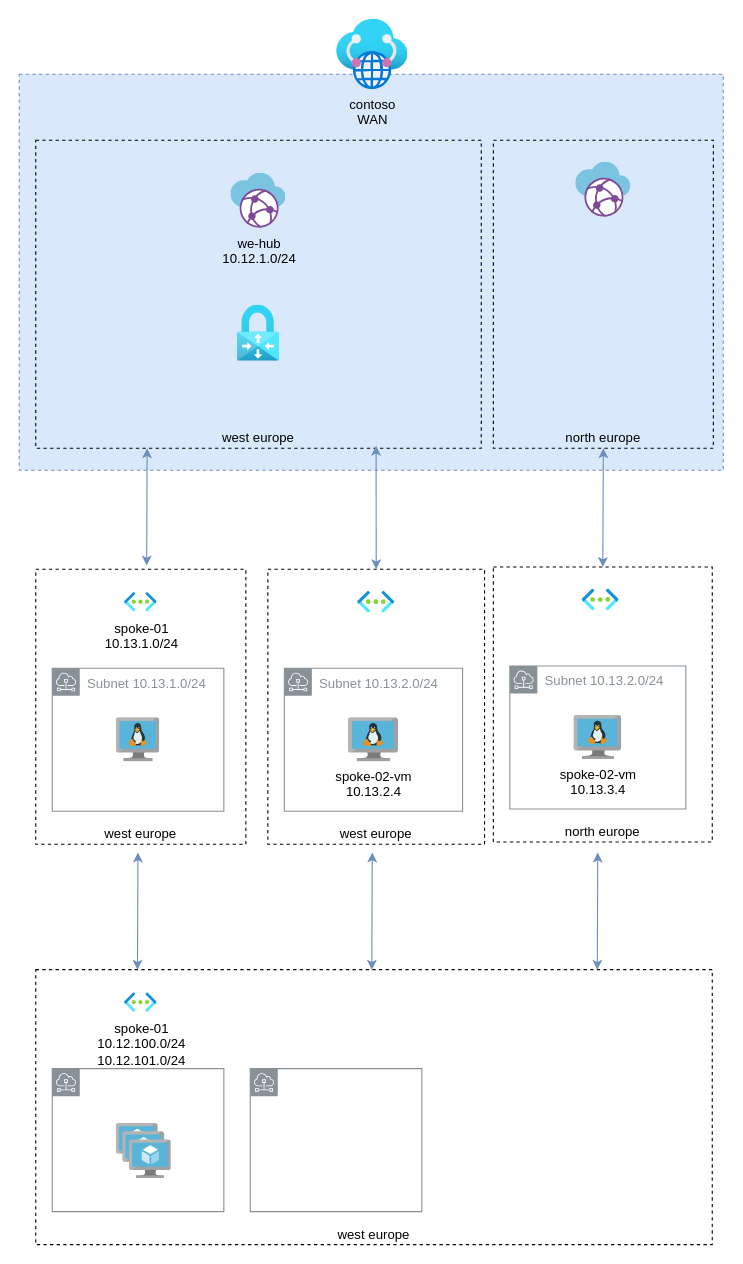
Some shapes in this 743 by 1264 pixel diagram are drawn without their labels. The shapes that lost their labels are listed below. From the top down, each one's box as (x1, y1, x2, y2) in pixels, then its label:
(575, 162, 630, 217): ne-hub 10.12.2.0/24
(237, 305, 279, 361): VPN gateway
(356, 591, 395, 613): spoke-02 10.13.2.0/24
(582, 588, 619, 610): spoke-03 10.13.3.0/24
(116, 717, 159, 761): spoke-01-vm 10.13.1.4
(51, 1068, 224, 1212): Bastion 10.12.100.0/24
(249, 1068, 422, 1212): Default10.12.101.0/24
